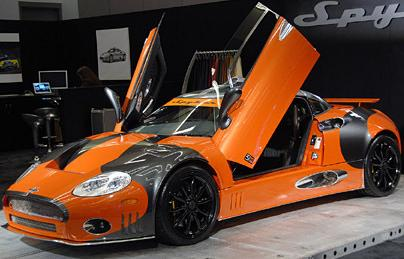front_view: (22, 151, 153, 246)
headlight: (55, 160, 137, 204)
